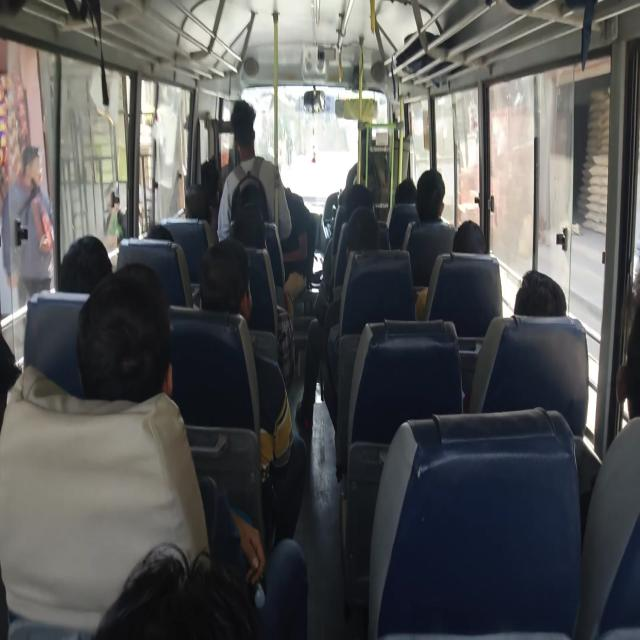person: (81, 301, 179, 409), (110, 556, 218, 640), (264, 168, 314, 306), (602, 286, 640, 453), (55, 224, 121, 294), (196, 242, 248, 314), (141, 182, 184, 266), (345, 217, 401, 276), (458, 222, 502, 288), (520, 263, 560, 321), (414, 173, 453, 231), (0, 327, 14, 478), (182, 180, 218, 235), (226, 206, 266, 255), (232, 111, 263, 167), (233, 180, 274, 219), (352, 191, 388, 224), (194, 163, 224, 192), (336, 176, 366, 202), (389, 177, 418, 199)
